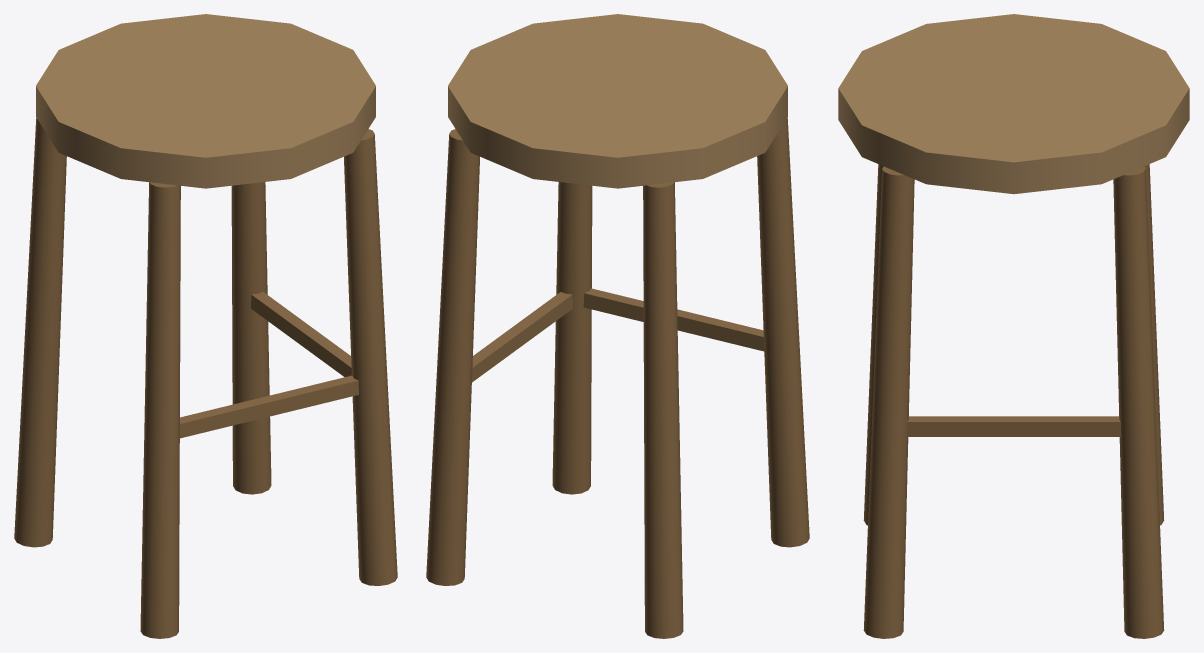
The model's file is LOC_GheDau.glb.
The picture shows the model from 3 angles, left to right: view 1: azimuth 30°, elevation 25°; view 2: azimuth 150°, elevation 25°; view 3: azimuth 270°, elevation 25°; orthographic projection. The views are drawn at different scales.
Visible parts, largest first — view 1: Ghe_Mat, Ghe_Chan_2, Ghe_Chan_1, Ghe_Chan_4, Ghe_Chan_3, Ghe_Giang_1, Ghe_Giang_2; view 2: Ghe_Mat, Ghe_Chan_4, Ghe_Chan_3, Ghe_Chan_2, Ghe_Chan_1, Ghe_Giang_1, Ghe_Giang_2; view 3: Ghe_Mat, Ghe_Chan_1, Ghe_Chan_3, Ghe_Giang_2, Ghe_Chan_2, Ghe_Chan_4.
Boxes of the visible parts, bbox=[...] form: Ghe_Mat: bbox=[36, 14, 375, 188]; Ghe_Chan_2: bbox=[140, 182, 180, 638]; Ghe_Chan_1: bbox=[344, 129, 397, 585]; Ghe_Chan_4: bbox=[14, 118, 66, 547]; Ghe_Chan_3: bbox=[231, 182, 271, 494]; Ghe_Giang_1: bbox=[180, 375, 358, 438]; Ghe_Giang_2: bbox=[251, 292, 351, 376]; Ghe_Mat: bbox=[448, 14, 787, 188]; Ghe_Chan_4: bbox=[643, 182, 683, 638]; Ghe_Chan_3: bbox=[426, 129, 479, 585]; Ghe_Chan_2: bbox=[757, 118, 809, 547]; Ghe_Chan_1: bbox=[552, 182, 592, 494]; Ghe_Giang_1: bbox=[583, 288, 764, 351]; Ghe_Giang_2: bbox=[472, 292, 572, 382]; Ghe_Mat: bbox=[838, 14, 1189, 194]; Ghe_Chan_1: bbox=[863, 166, 914, 638]; Ghe_Chan_3: bbox=[1113, 166, 1164, 638]; Ghe_Giang_2: bbox=[906, 416, 1121, 436]; Ghe_Chan_2: bbox=[863, 164, 883, 525]; Ghe_Chan_4: bbox=[1144, 164, 1164, 525].
Size of the model in its own units: 0.3 by 0.4605 by 0.3.
